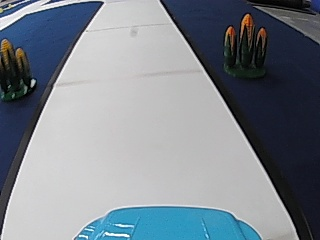corn: (222, 9, 272, 76), (1, 38, 40, 99)
